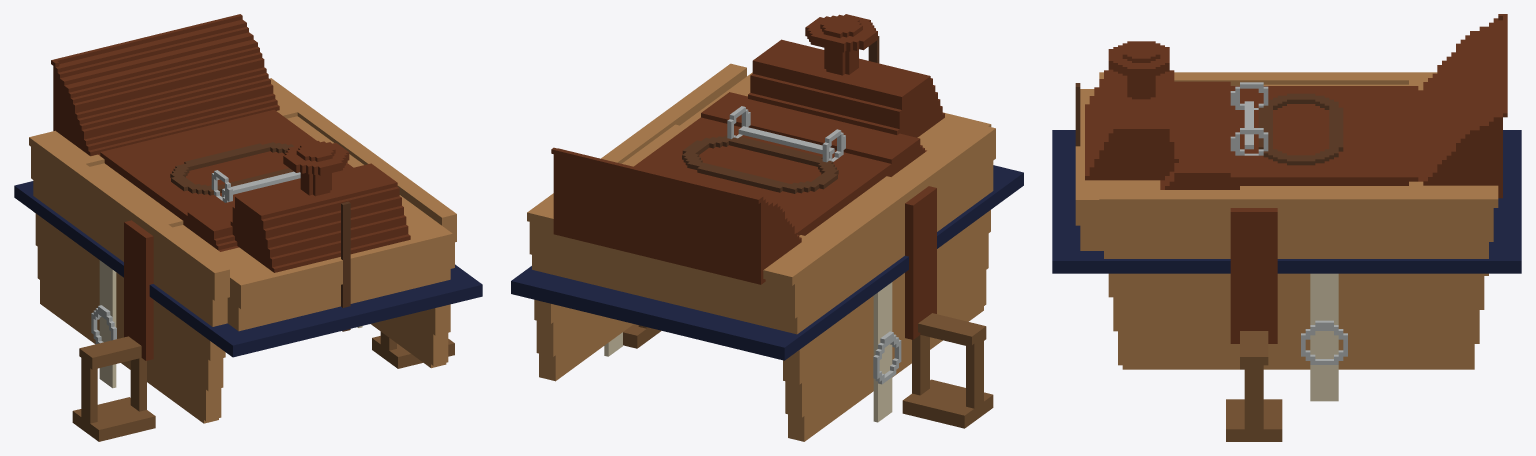
File: horse_tack.glb
3 views of the same model, side by side, from view 1: azimuth 30°, elevation 25°; view 2: azimuth 150°, elevation 25°; view 3: azimuth 270°, elevation 25° (orthographic). The views are drawn at different scales.
Parts seen in each view (by area): view 1: horse_tack:compound; view 2: horse_tack:compound; view 3: horse_tack:compound.
Boxes of the visible parts, left/top/right/bottom form: horse_tack:compound: left=14, top=14, right=482, bottom=441; horse_tack:compound: left=511, top=14, right=1023, bottom=441; horse_tack:compound: left=1052, top=14, right=1521, bottom=441.
Bounding box in the file's own units: 0.564 × 0.42 × 0.6.
